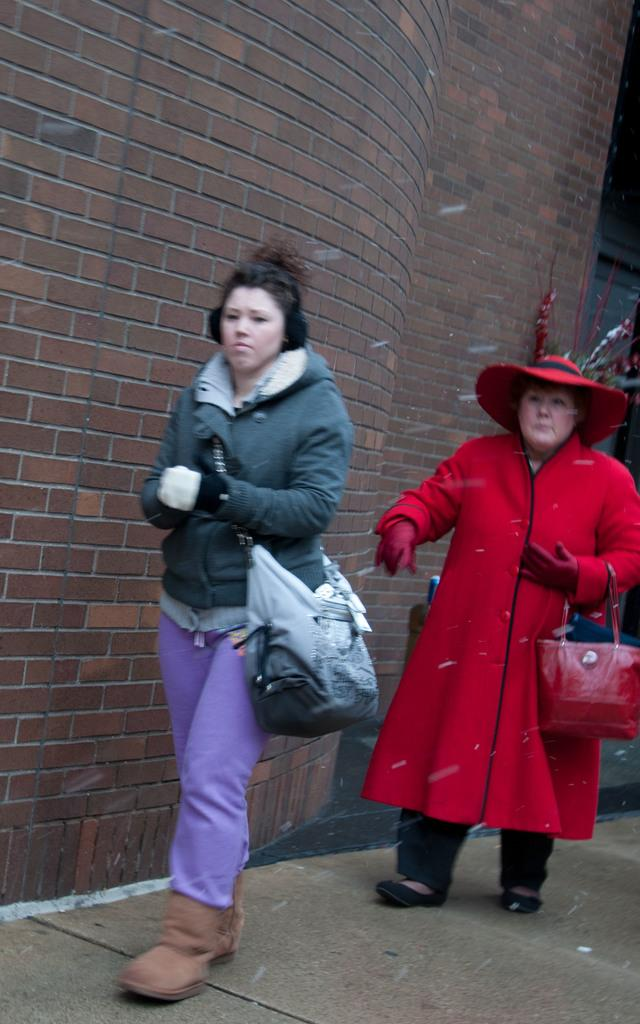Hat: (468, 349, 626, 448)
